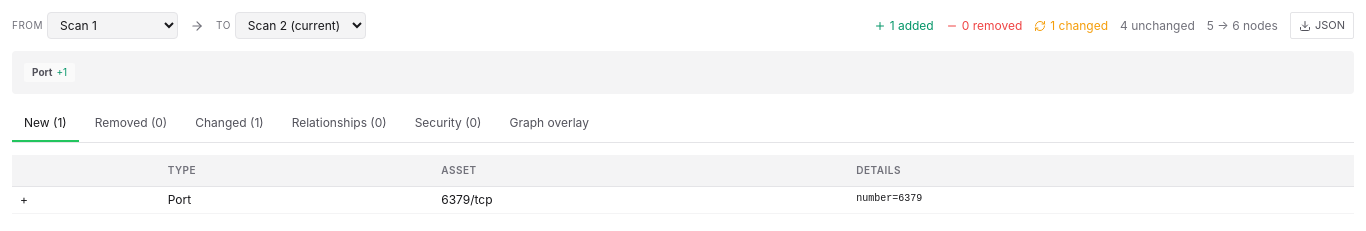
Test: ReconDeltaTable › shows the changed field old to new
The image size is (1366, 231).
Expected: the text "1 added" is shown, [874,16,934,34]
What coordinates should you click on to do the following:
click the tab "Changed (1)"
I would click on:
 (229, 124)
Its box is [183,106,276,142].
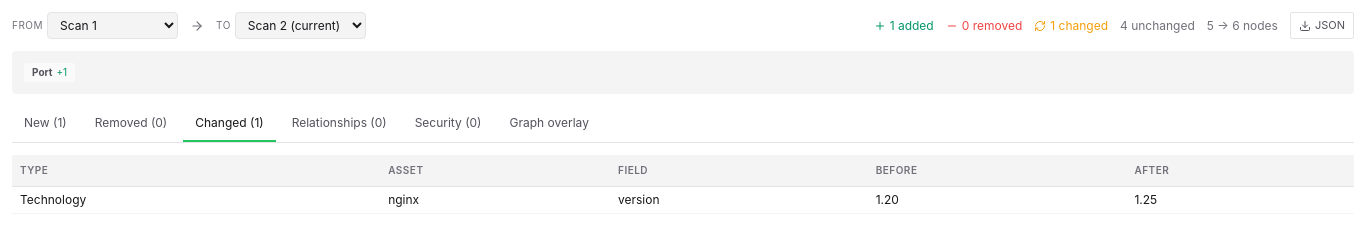
Expected: the text "version" is shown, [610,186,868,214]
Expected: the text "1.20" is shown, [868,186,1126,214]
Expected: the text "1.25" is shown, [1126,186,1354,214]
